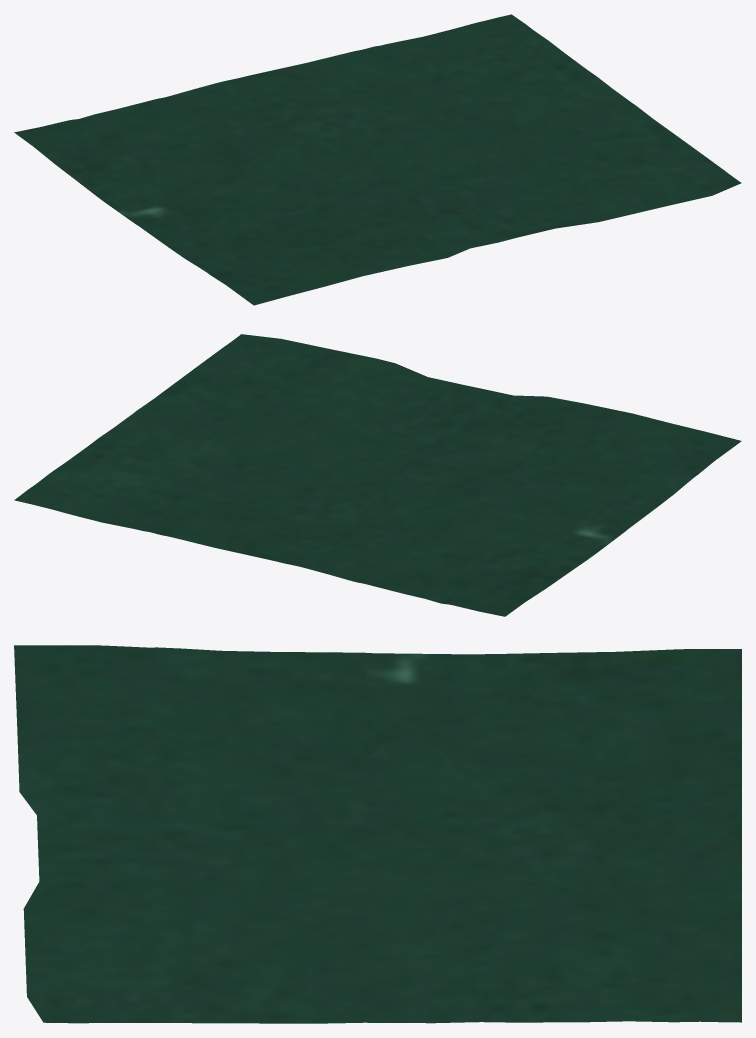
3 renders of one model, top to bottom at view 1: azimuth 30°, elevation 25°; view 2: azimuth 150°, elevation 25°; view 3: azimuth 270°, elevation 25°, orthographic. The views are drawn at different scales.
Size of the model in its own units: 52.22 by 1.04 by 43.62.
2 materials, 2 textured.
